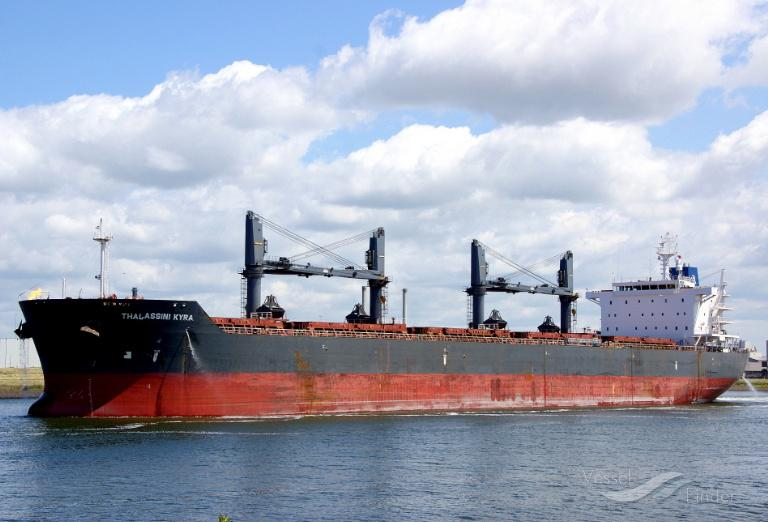OCR: (107, 308, 200, 330)
